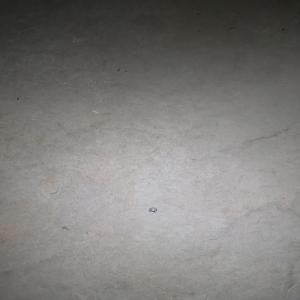Nut: (147, 207, 157, 212)
